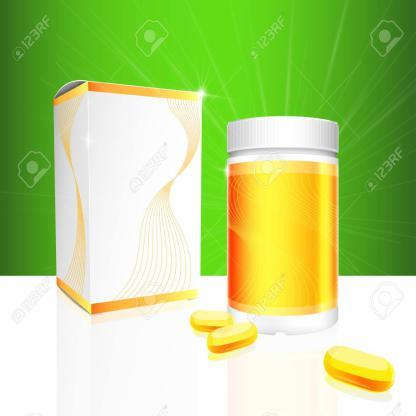jar: (227, 116, 339, 334)
